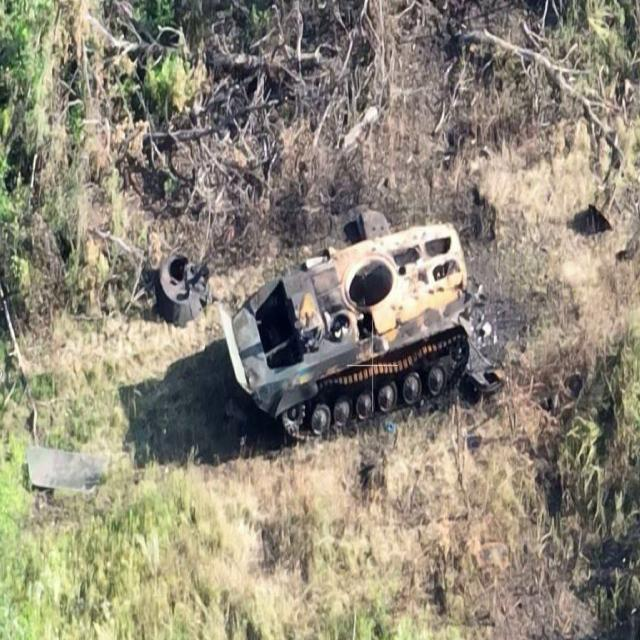Destroyed: (223, 221, 472, 453)
